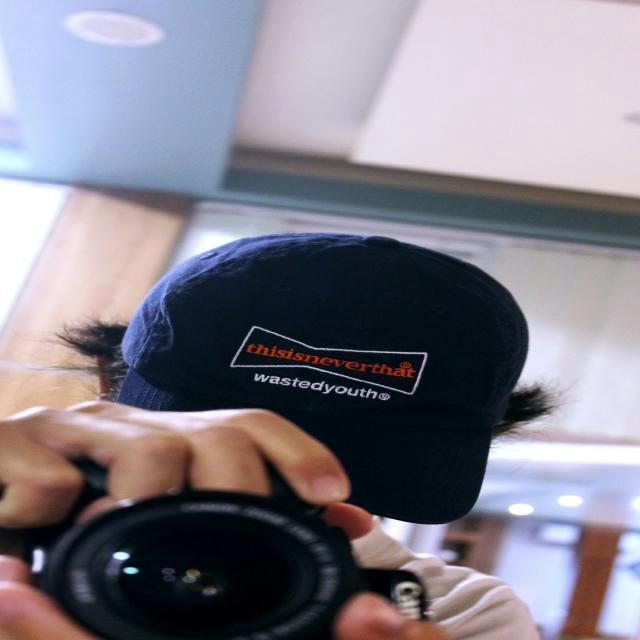no_hard_hat: (117, 233, 549, 524)
person: (0, 232, 557, 640)
